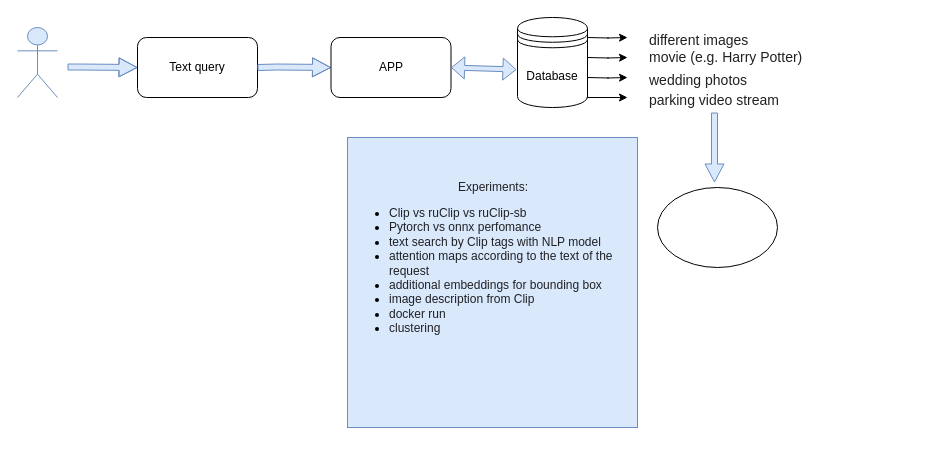
Image size: 949x453. Some labels were removed from this diagram. Here are the shapes that lost their labels. From the top down, the box of each, then its label:
(16, 26, 58, 98): User
(656, 186, 778, 268): Built indexes
